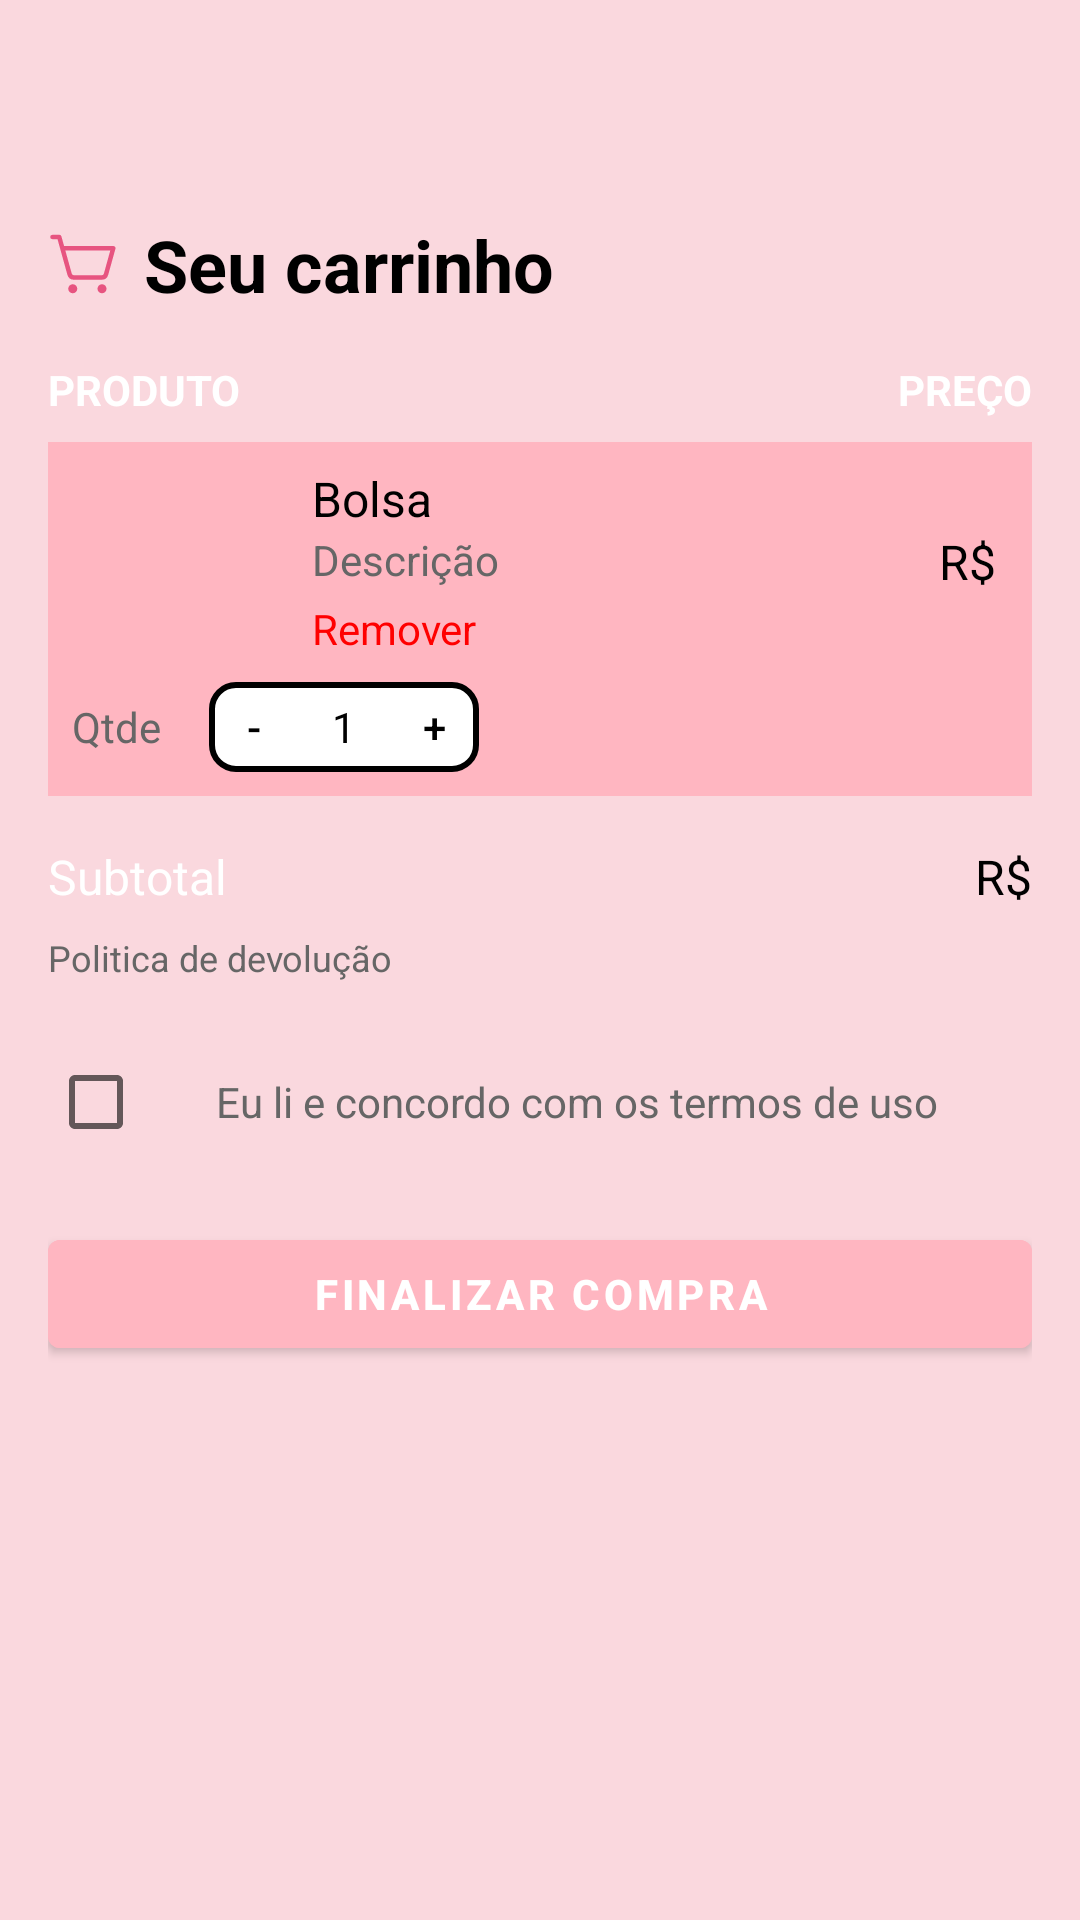

Screen size 1080 x 1920. Icon name, then its box in pixels as (x1, y1, x2, y2):
Ícone de carrinho: (50, 234, 116, 294)
